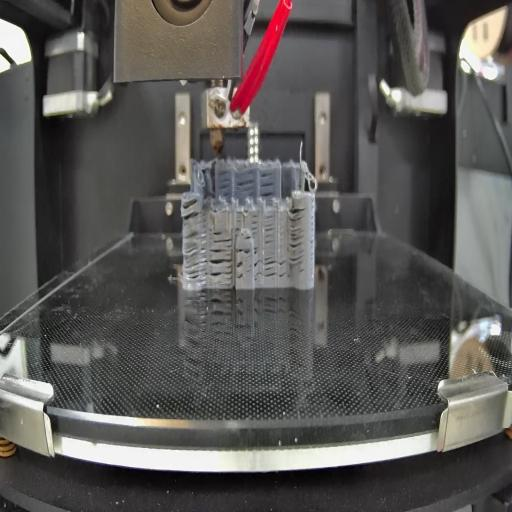cracks: (183, 232, 208, 284), (289, 206, 304, 264), (210, 248, 232, 282), (254, 259, 288, 279), (180, 198, 204, 222), (259, 170, 278, 199), (216, 170, 233, 196), (237, 174, 257, 196), (212, 229, 233, 246), (265, 214, 276, 246), (234, 208, 244, 230), (236, 247, 258, 255), (236, 259, 244, 281), (250, 211, 258, 233), (242, 233, 253, 242)
